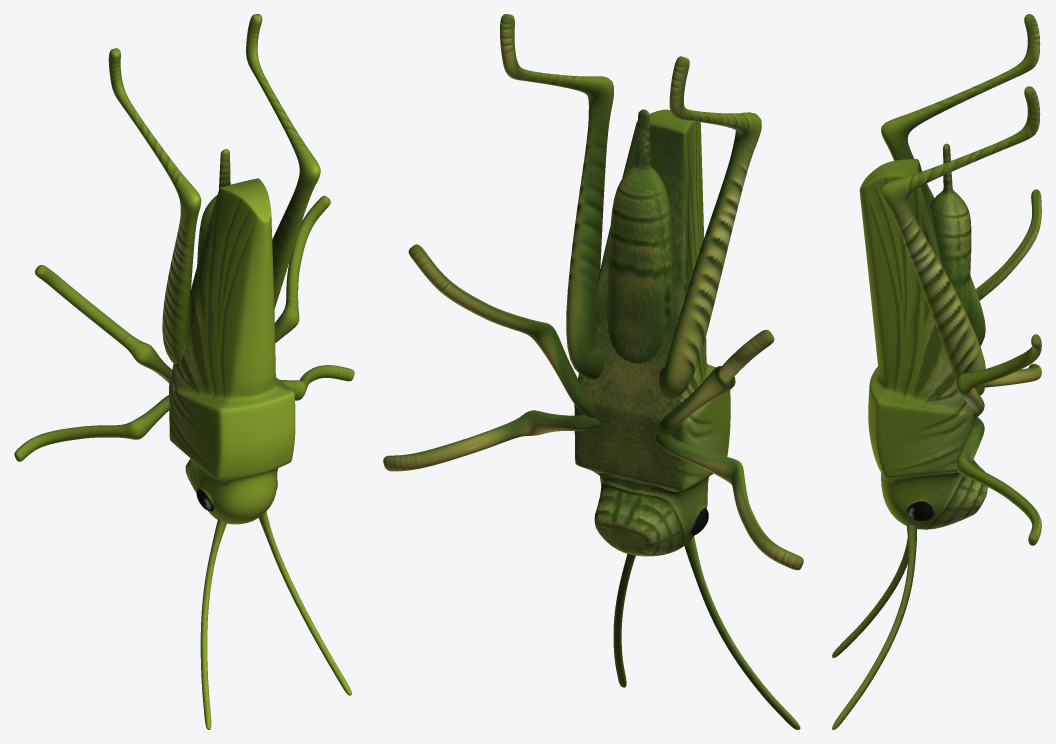
File: grasshopper.obj
3 renders of one model, left to right at view 1: azimuth 30°, elevation 25°; view 2: azimuth 150°, elevation 25°; view 3: azimuth 270°, elevation 25°, orthographic. The views are drawn at different scales.
Visible parts, largest first — view 1: Box01; view 2: Box01; view 3: Box01.
Part boxes in pixels (x1=…): Box01: x1=14, y1=14, x2=354, y2=729; Box01: x1=383, y1=14, x2=803, y2=729; Box01: x1=832, y1=14, x2=1041, y2=729.
Size of the model in its own units: 8.99 by 15.52 by 4.59.
